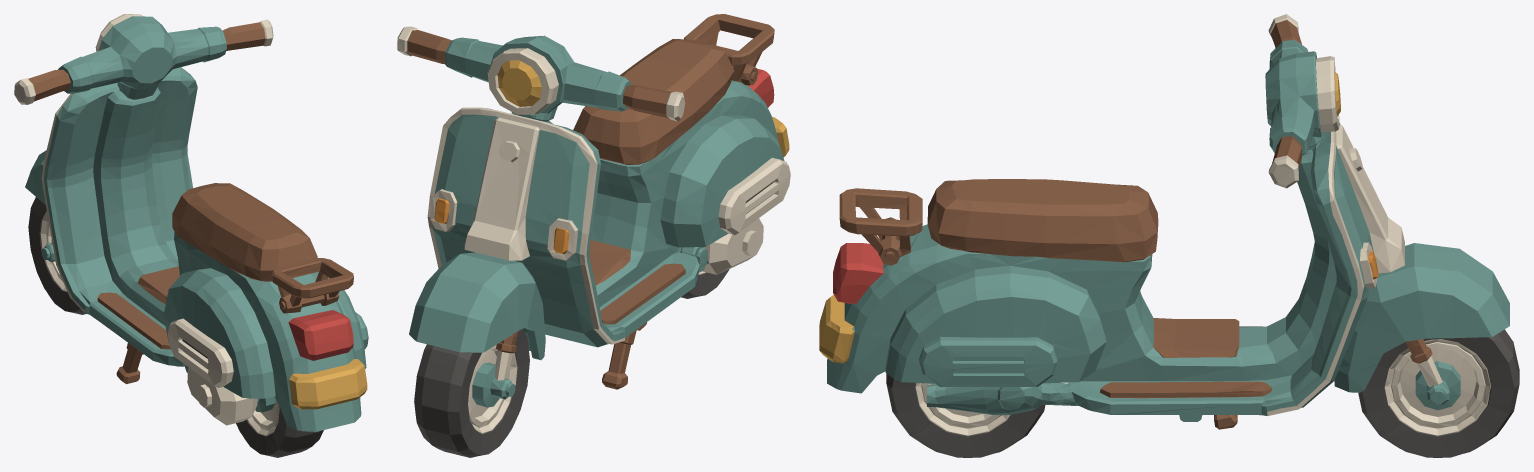
The model's file is Scooter.fbx.
3 views of the same model, side by side, from view 1: azimuth 30°, elevation 25°; view 2: azimuth 150°, elevation 25°; view 3: azimuth 270°, elevation 25° (orthographic). The views are drawn at different scales.
Visible parts, largest first — view 1: Scooter_Body, Scooter_Steering, Scooter_Tear_Back, Scooter_Tear_Front, Scooter_Leg; view 2: Scooter_Body, Scooter_Steering, Scooter_Tear_Front, Scooter_Leg, Scooter_Tear_Back; view 3: Scooter_Body, Scooter_Steering, Scooter_Tear_Front, Scooter_Tear_Back.
Part boxes in pixels (box(x1,y1,x2,y2)): Scooter_Body: box(41, 67, 368, 431); Scooter_Steering: box(14, 14, 273, 244); Scooter_Tear_Back: box(236, 396, 323, 457); Scooter_Tear_Front: box(28, 197, 86, 314); Scooter_Leg: box(116, 343, 143, 384); Scooter_Body: box(427, 14, 790, 347); Scooter_Steering: box(397, 26, 685, 380); Scooter_Tear_Front: box(414, 329, 529, 457); Scooter_Leg: box(602, 322, 646, 389); Scooter_Tear_Back: box(681, 269, 729, 298); Scooter_Body: box(819, 123, 1404, 421); Scooter_Steering: box(1265, 14, 1509, 392); Scooter_Tear_Front: box(1358, 329, 1519, 457); Scooter_Tear_Back: box(886, 374, 1045, 457).
Bounding box in the file's own units: 0.9215 × 1.84 × 1.14.
